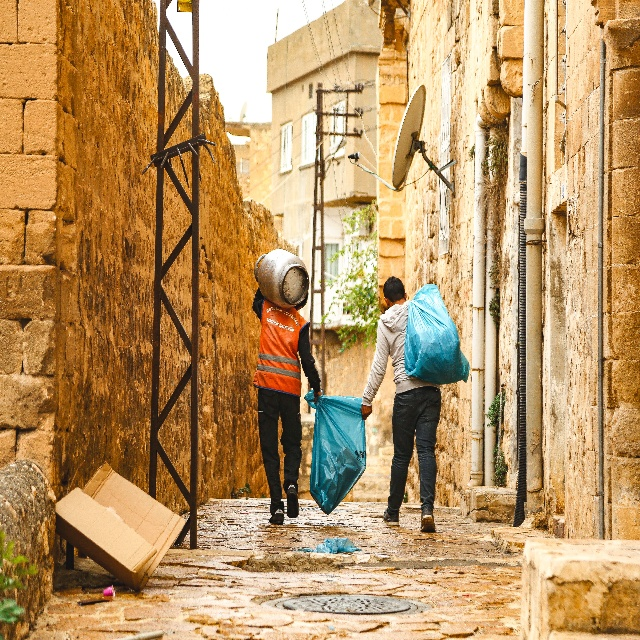Sin_guantes: (360, 403, 373, 421), (313, 389, 322, 403)
